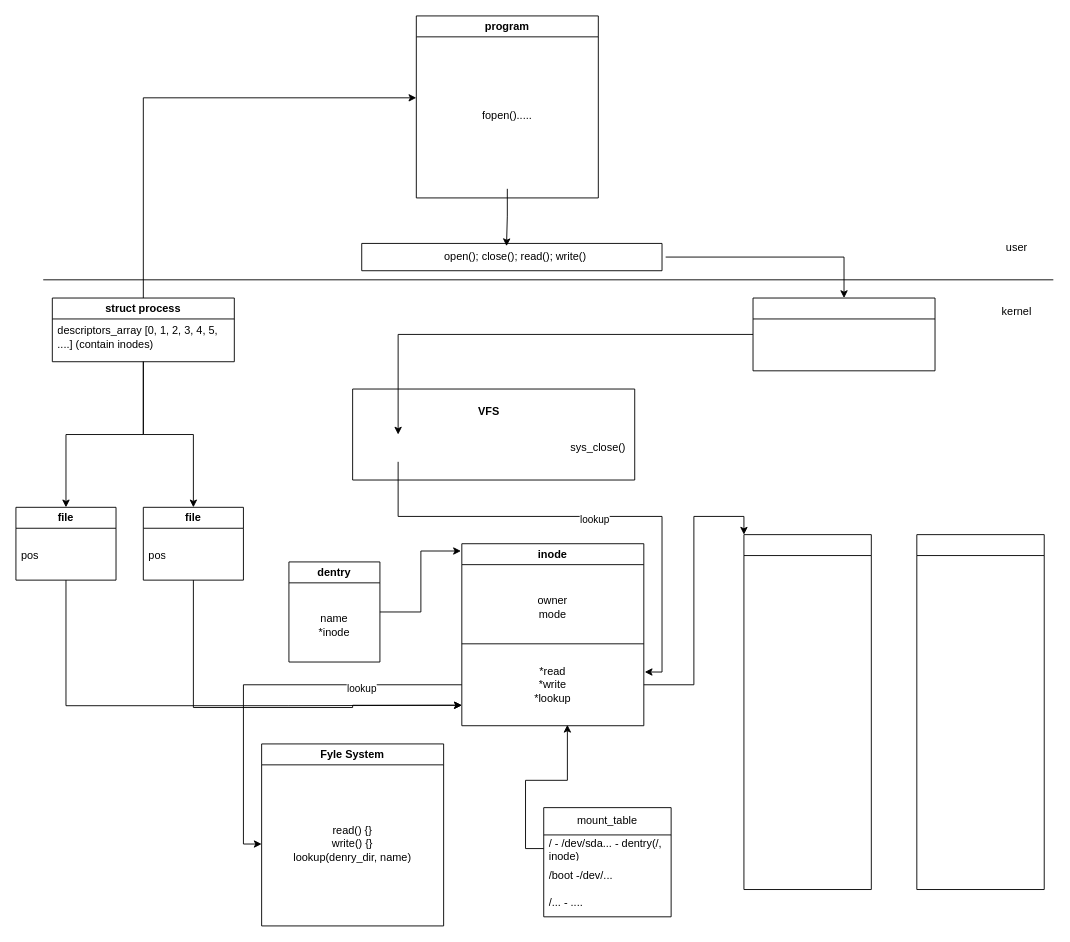
This 1070x942 diagram has some shape labels left out. The centre of each missing label's shape, as x and y in pixels:
"dcashe" goes at [807,712].
"entrypoint" goes at [843,334].
"icashe" goes at [980,712].
"sys_open()" goes at [493,434].
